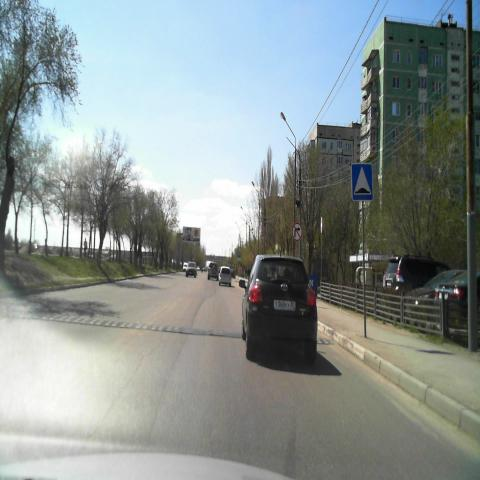3_18: (291, 222, 303, 242)
